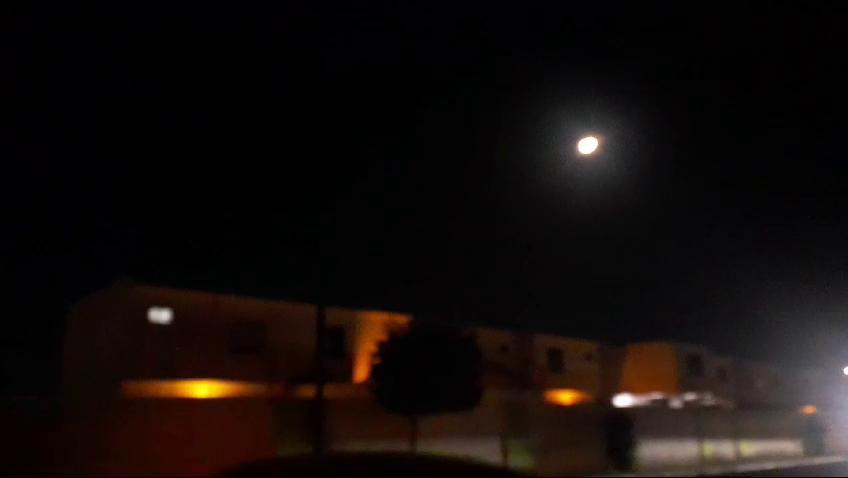moon: (580, 131, 605, 156)
